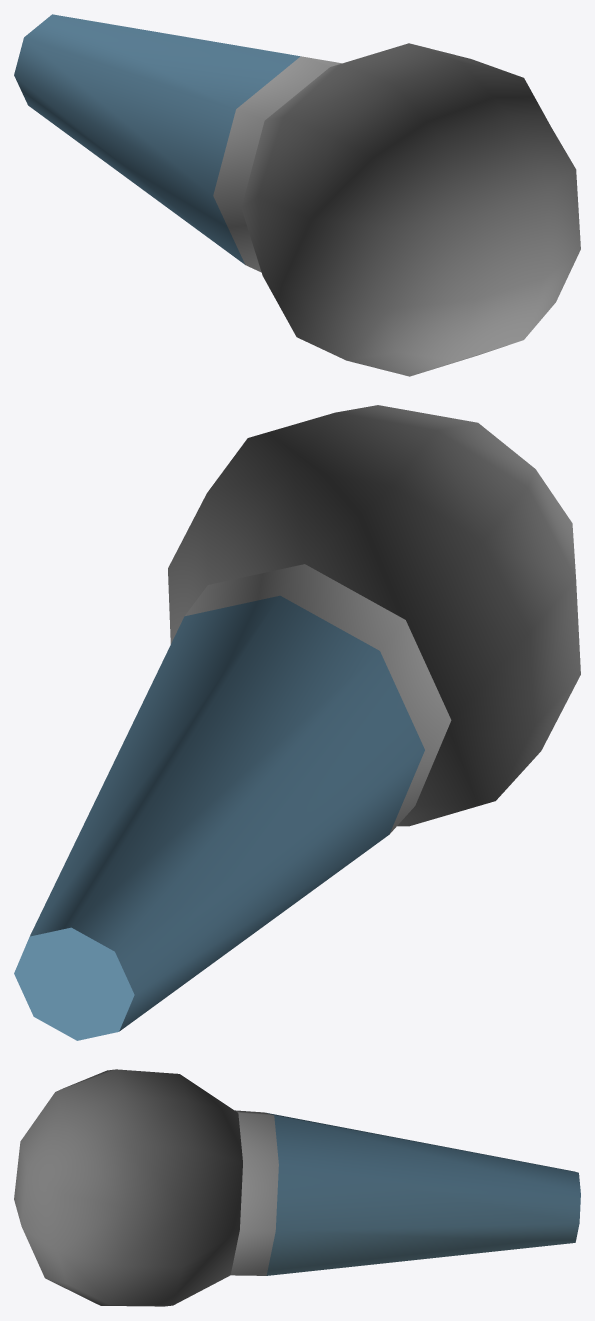
File: Microphone_Microphone.glb
The picture shows the model from 3 angles, top to bottom: view 1: azimuth 30°, elevation 25°; view 2: azimuth 150°, elevation 25°; view 3: azimuth 270°, elevation 25°; orthographic projection. The views are drawn at different scales.
Visible parts, largest first — view 1: Microphone:Microphone; view 2: Microphone:Microphone; view 3: Microphone:Microphone.
Boxes of the visible parts, x1,y1,x2,y2 form: Microphone:Microphone: [14, 14, 580, 376]; Microphone:Microphone: [14, 405, 580, 1040]; Microphone:Microphone: [14, 1069, 580, 1306].
Size of the model in its own units: 0.1158 by 0.1154 by 0.2781.
